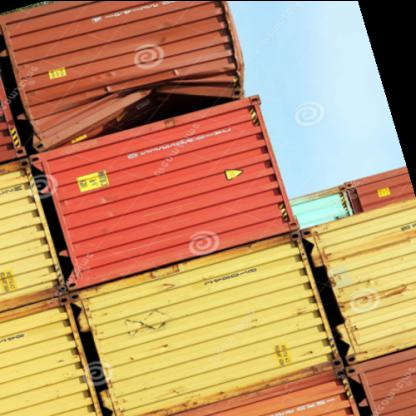Damage: (52, 66, 232, 170), (115, 304, 178, 349), (351, 274, 415, 312)
